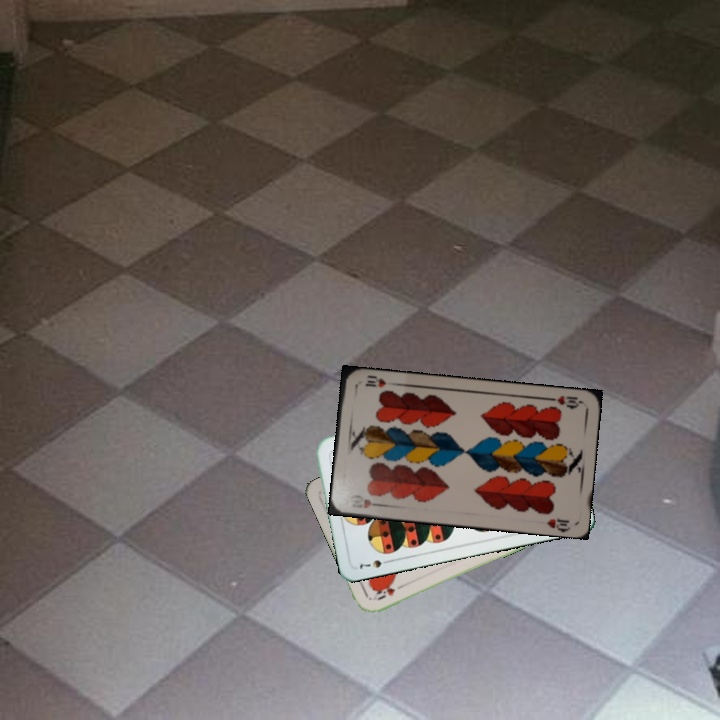H10: (544, 392, 584, 411), (348, 495, 385, 511)
HO: (372, 580, 407, 603)
S7: (355, 555, 394, 572)
